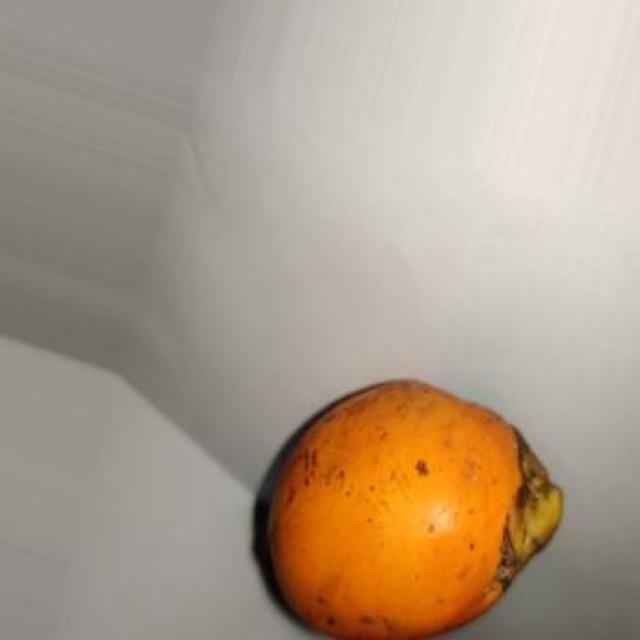good: (252, 380, 563, 638)
